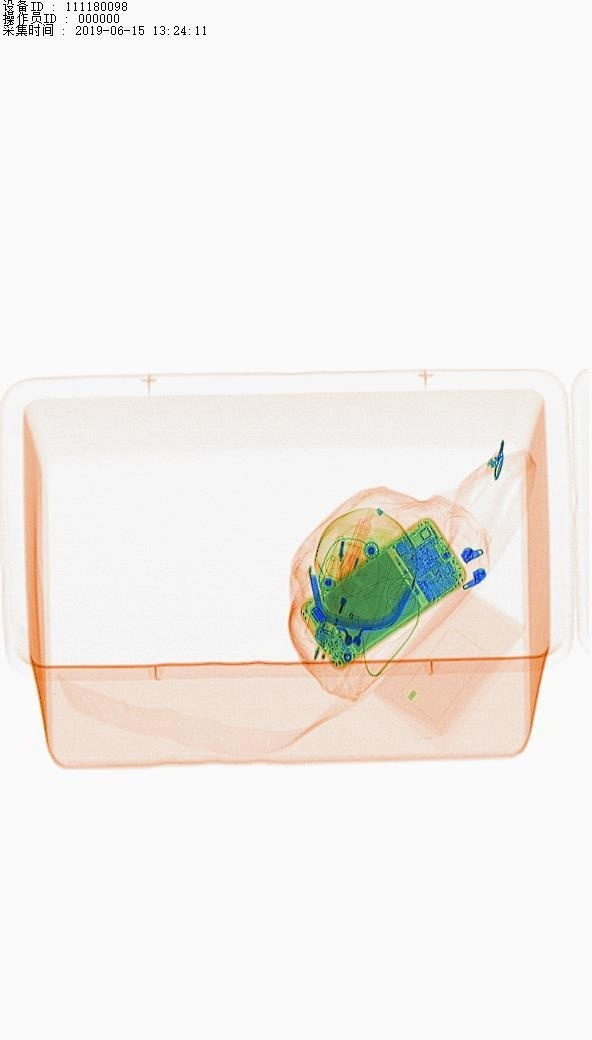NonmetallicFire: (316, 562, 364, 662)
